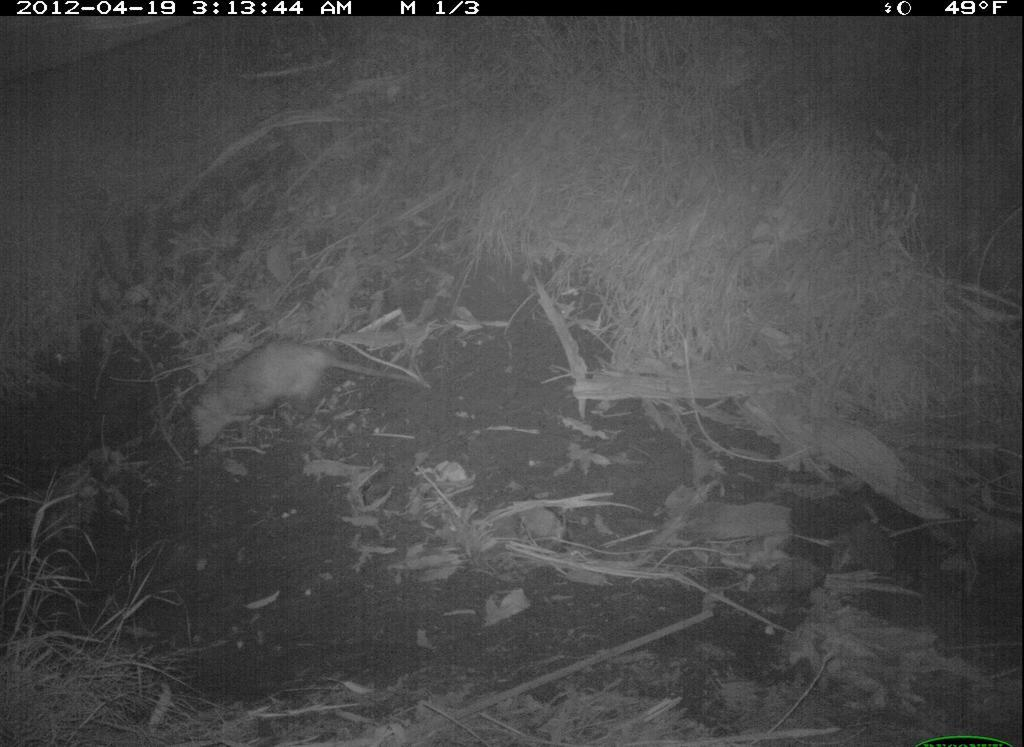opossum: (181, 333, 424, 457)
